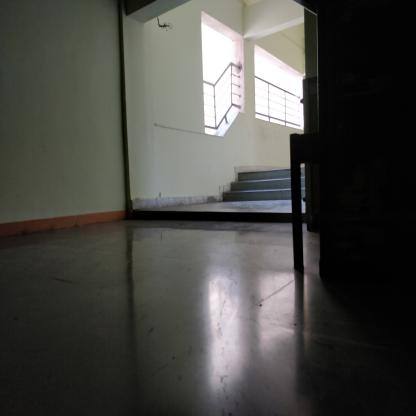stairs: (238, 169, 290, 204)
